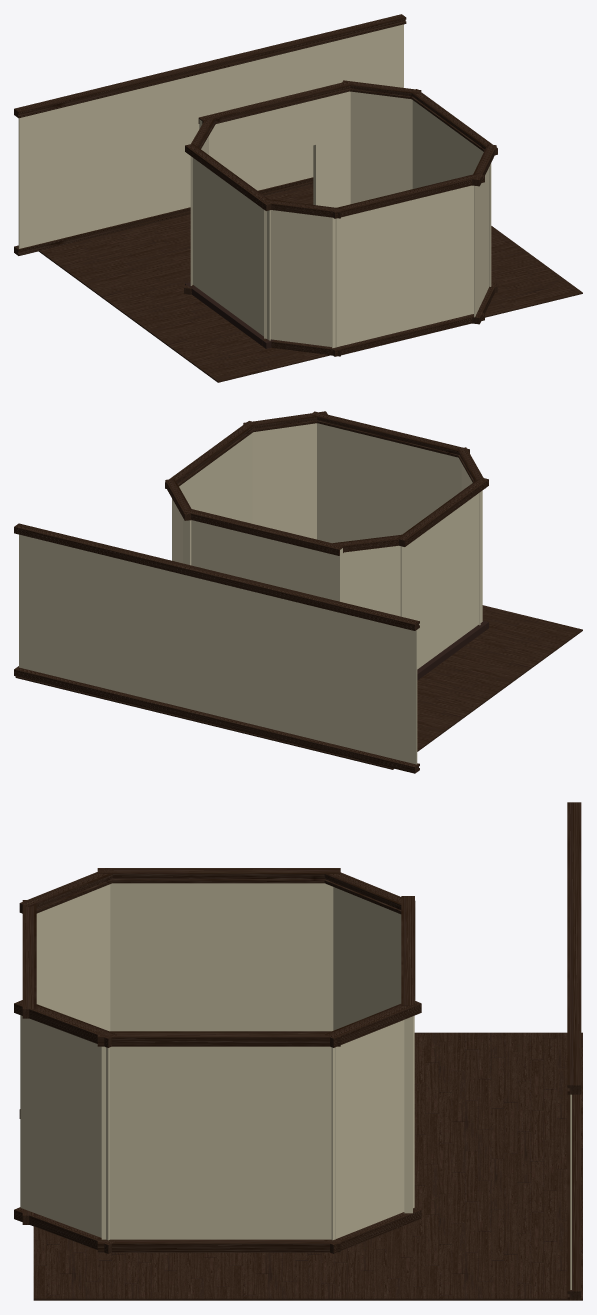
The model's file is Interiors_Beige_.glb.
The picture shows the model from 3 angles, top to bottom: view 1: azimuth 30°, elevation 25°; view 2: azimuth 150°, elevation 25°; view 3: azimuth 270°, elevation 25°; orthographic projection. The views are drawn at different scales.
Visible parts, largest first — view 1: Wall R.001, Floor, Wall F.005, Wall F.011, Wall R, Wall F.009, Wall F.003, Cube.017, Wall F, Wall F.006, Cube.018, Cube.004 (+9 smaller); view 2: Wall R.001, Wall F.005, Floor, Wall F.011, Wall R, Wall F.006, Cube.017, Cube.018, Wall F, Wall F.012, Cube.004, Cube.012 (+8 smaller); view 3: Floor, Wall F, Wall F.011, Wall F.006, Wall F.003, Wall F.009, Wall F.012, Cube.017, Cube.013, Cube.024, Cube.010, Cube.018 (+9 smaller).
Boxes of the visible parts, box(x1,y1,x2,y2) form: Wall R.001: box(18, 24, 403, 248); Floor: box(39, 184, 582, 382); Wall F.005: box(332, 185, 473, 348); Wall F.011: box(192, 158, 270, 340); Wall R: box(199, 91, 350, 207); Wall F.009: box(264, 210, 336, 347); Wall F.003: box(350, 91, 412, 203); Cube.017: box(14, 14, 406, 118); Wall F: box(412, 100, 491, 286); Wall F.006: box(474, 166, 489, 317); Cube.018: box(14, 177, 313, 255); Cube.004: box(198, 81, 353, 123); Wall R.001: box(19, 534, 417, 764); Wall F.005: box(317, 423, 461, 543); Floor: box(15, 605, 582, 769); Wall F.011: box(400, 490, 482, 669); Wall R: box(183, 518, 342, 602); Wall F.006: box(252, 423, 316, 539); Cube.017: box(14, 523, 419, 630); Cube.018: box(14, 666, 419, 773); Wall F: box(172, 433, 252, 560); Wall F.012: box(343, 545, 406, 617); Cube.004: box(183, 508, 343, 555); Cube.012: box(310, 411, 469, 457); Floor: box(33, 1032, 582, 1300); Wall F: box(101, 1046, 335, 1239); Wall F.011: box(110, 883, 333, 1031); Wall F.006: box(20, 1015, 109, 1240); Wall F.003: box(331, 1015, 414, 1240); Wall F.009: box(36, 884, 110, 1031); Wall F.012: box(333, 887, 401, 1030); Cube.017: box(567, 802, 581, 1094); Cube.013: box(97, 1031, 340, 1046); Cube.024: box(97, 868, 340, 883); Cube.010: box(97, 1237, 340, 1252); Cube.018: box(567, 1087, 581, 1300).
Bounding box in the file's own units: 44.45 × 15.94 × 37.79.
6 materials, 3 textured.
